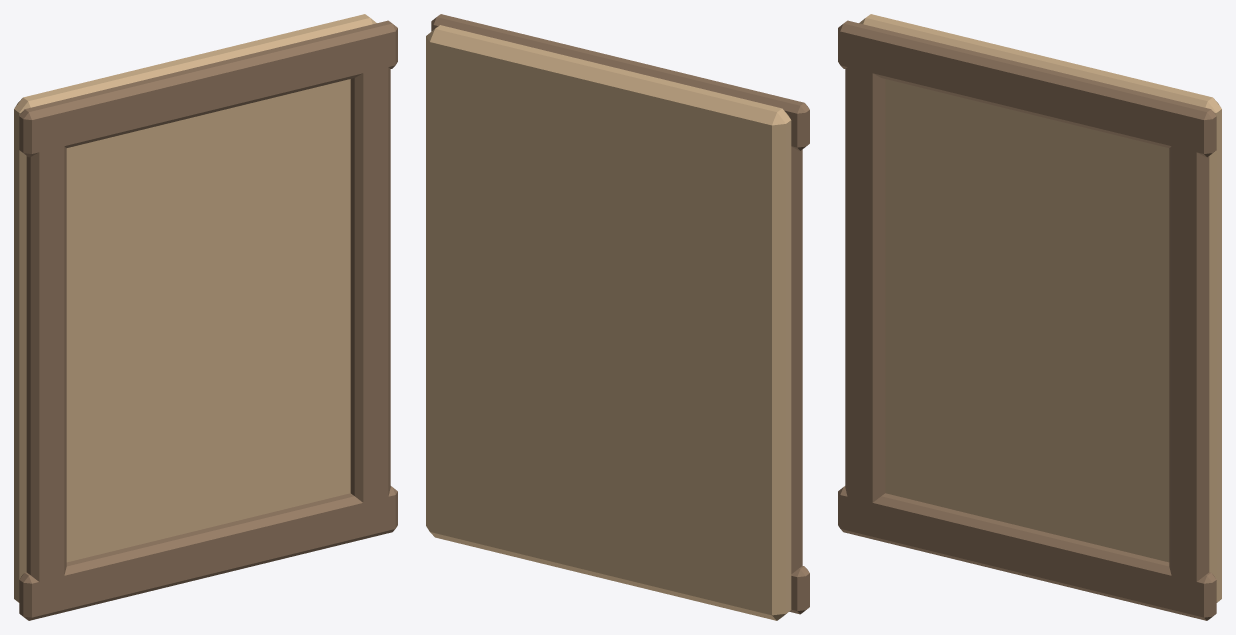
Rendered from feudal-japan-castle-town-timber-wall-panel-3c3cb7c4__26363.glb.
3 views of the same model, side by side, from view 1: azimuth 30°, elevation 25°; view 2: azimuth 150°, elevation 25°; view 3: azimuth 330°, elevation 25° (orthographic).
Parts seen in each view (by area): view 1: timber-wall-panel; view 2: timber-wall-panel; view 3: timber-wall-panel.
Part boxes in pixels (left/top/right/bottom): timber-wall-panel: left=14, top=14, right=397, bottom=620; timber-wall-panel: left=426, top=14, right=809, bottom=620; timber-wall-panel: left=838, top=14, right=1221, bottom=620.
Size of the model in its own units: 2.08 by 2.7 by 0.2399.
